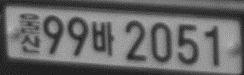0: (149, 21, 173, 63)
1: (202, 26, 226, 66)
2: (124, 20, 147, 61)
5: (176, 24, 199, 66)
9: (66, 15, 89, 56), (42, 13, 64, 54)
바: (91, 20, 115, 57)
울산_V: (18, 11, 42, 54)
